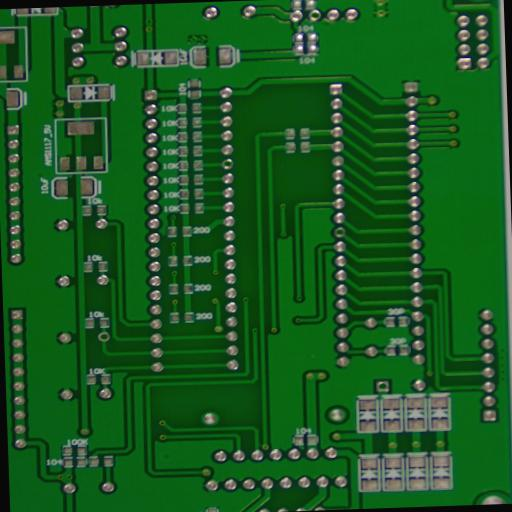missing_hole: (330, 225, 345, 240), (374, 380, 388, 392), (308, 8, 320, 22), (96, 332, 109, 344), (218, 159, 232, 170), (311, 504, 327, 510)
